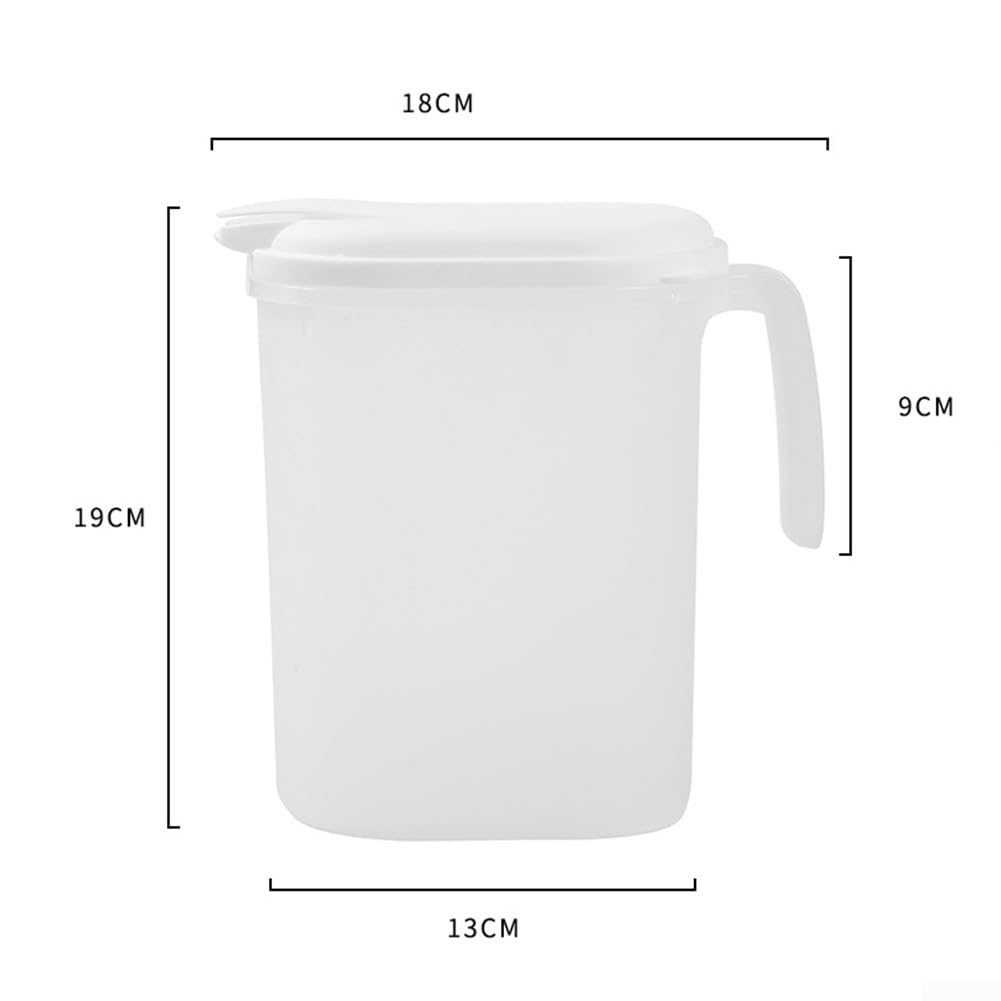13CM: (449, 918, 517, 938)
18CM: (404, 93, 472, 113)
19CM: (75, 507, 144, 527)
9CM: (899, 396, 952, 416)
